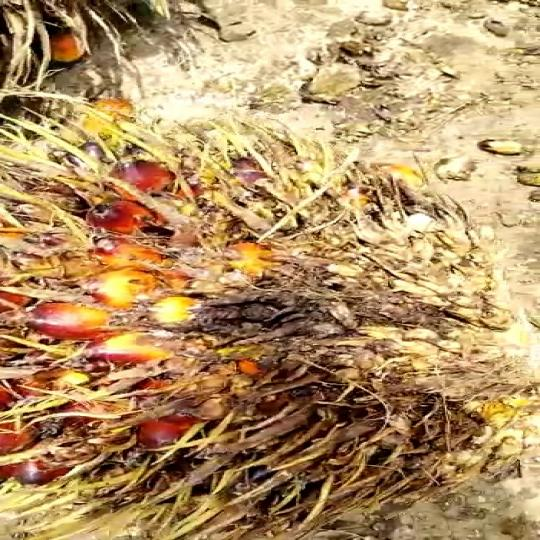masak: (0, 110, 540, 540)
